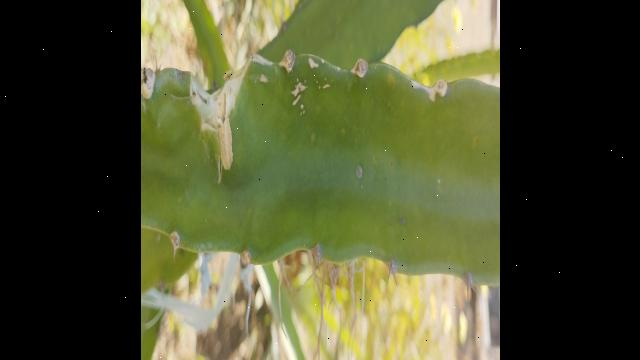stemcanker: (286, 77, 316, 121), (347, 159, 372, 187)
